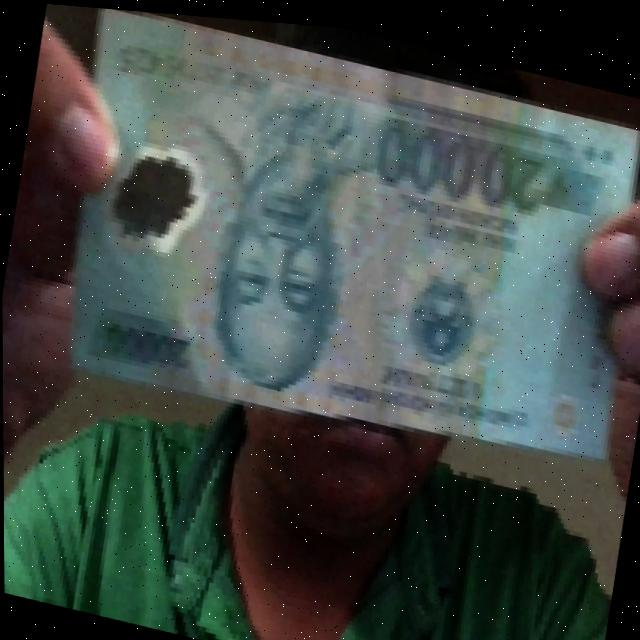20 000 VND: (37, 2, 640, 494)
